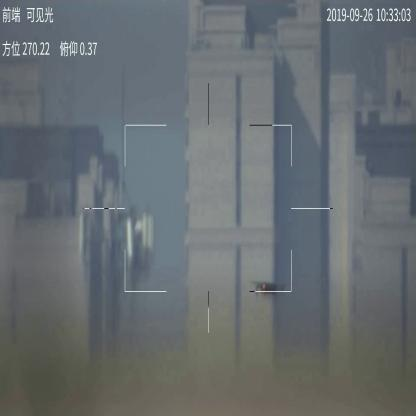uav: (250, 278, 289, 296)
